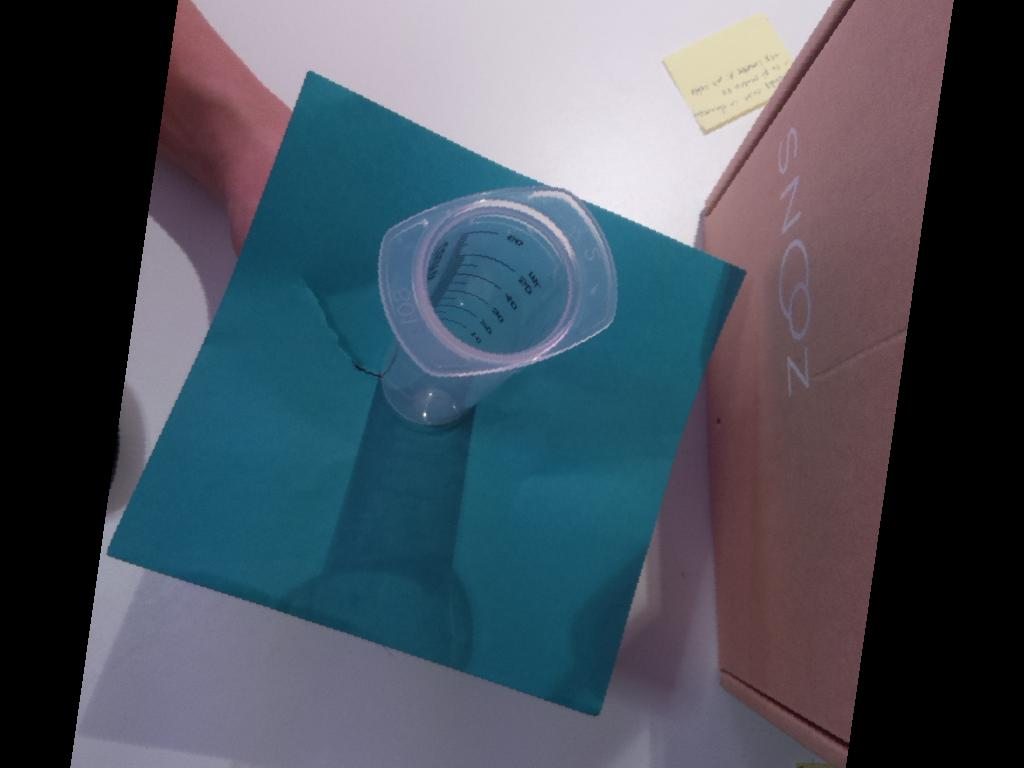clean: (377, 186, 619, 375)
